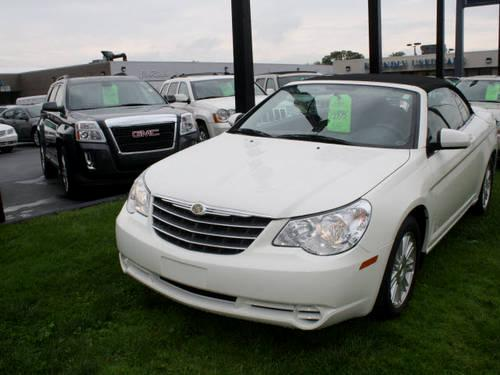Chrysler: (152, 189, 261, 233)
